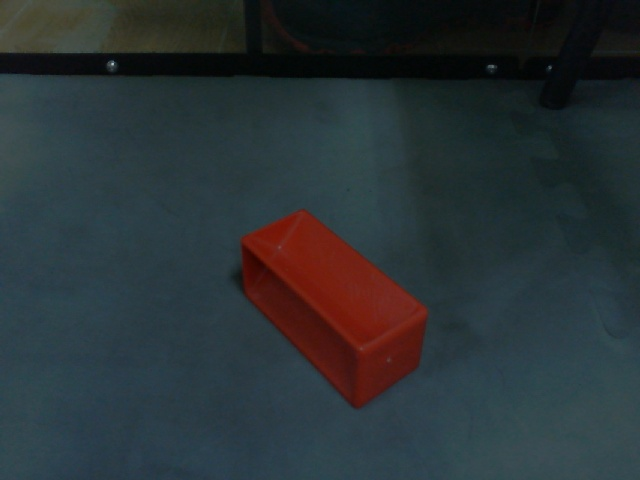RedSample: (237, 207, 431, 412)
